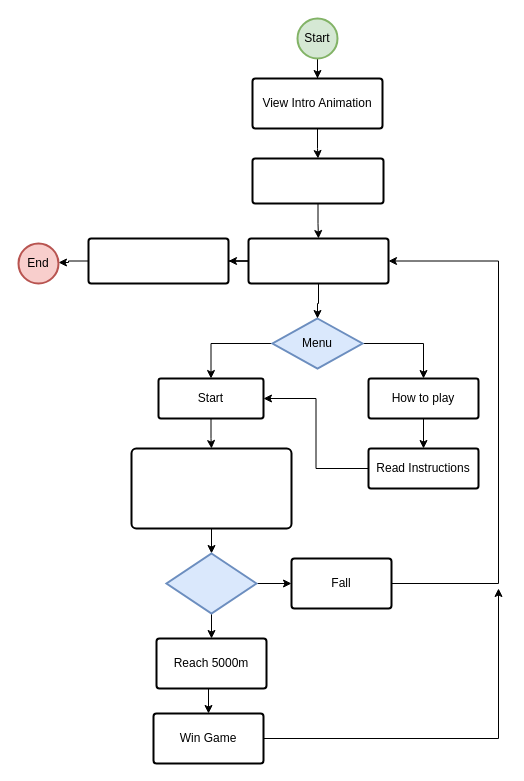
The diagram is 524 pixels wide and 781 high, and some of its shapes have lost their labels. The centre of each missing label's shape, as x and y in pixels:
"Game Run, Monkey and blocks start falling" goes at point (211, 488).
"Hide Intro Animation" goes at point (317, 180).
"Jump to win" goes at point (211, 583).
"Not interested" goes at point (158, 260).
"Show Menu with Score" goes at point (318, 260).
